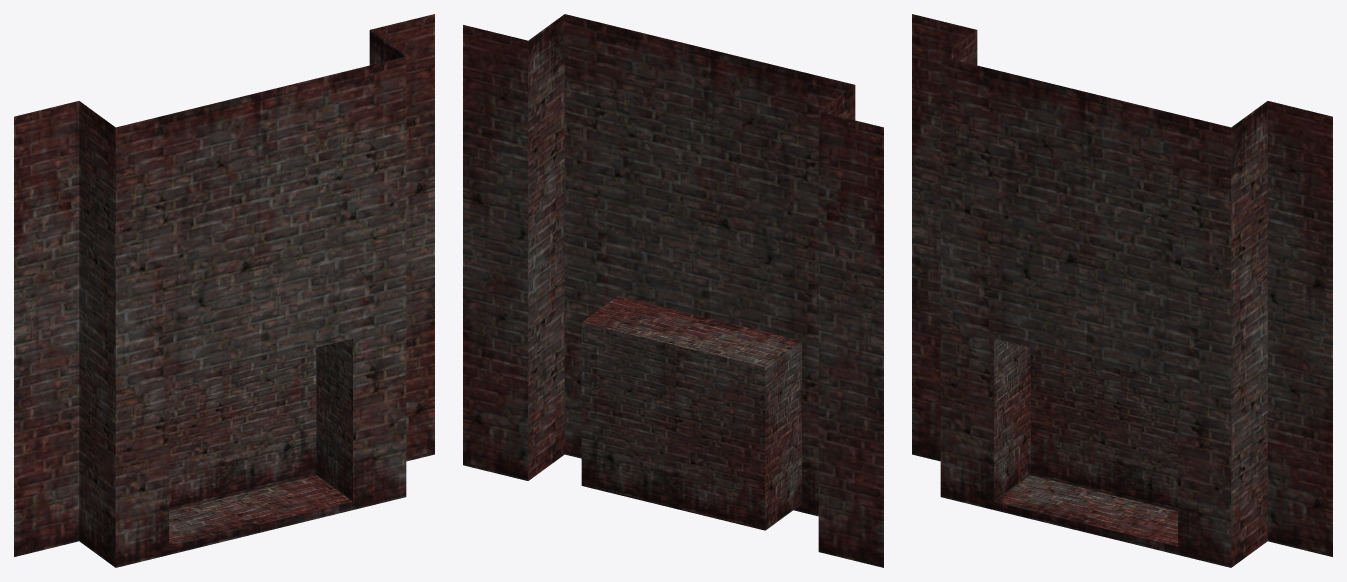
Rendered from wall_brick_fireplace.obj.
3 renders of one model, left to right at view 1: azimuth 30°, elevation 25°; view 2: azimuth 150°, elevation 25°; view 3: azimuth 330°, elevation 25°, orthographic.
Visible parts, largest first — view 1: Wall_Fireplace; view 2: Wall_Fireplace; view 3: Wall_Fireplace.
Part boxes in pixels (x1=…): Wall_Fireplace: x1=14, y1=14, x2=434, y2=567; Wall_Fireplace: x1=463, y1=14, x2=883, y2=567; Wall_Fireplace: x1=912, y1=14, x2=1332, y2=567.
Size of the model in its own units: 3 by 3 by 0.4501.
1 material, 1 textured.
